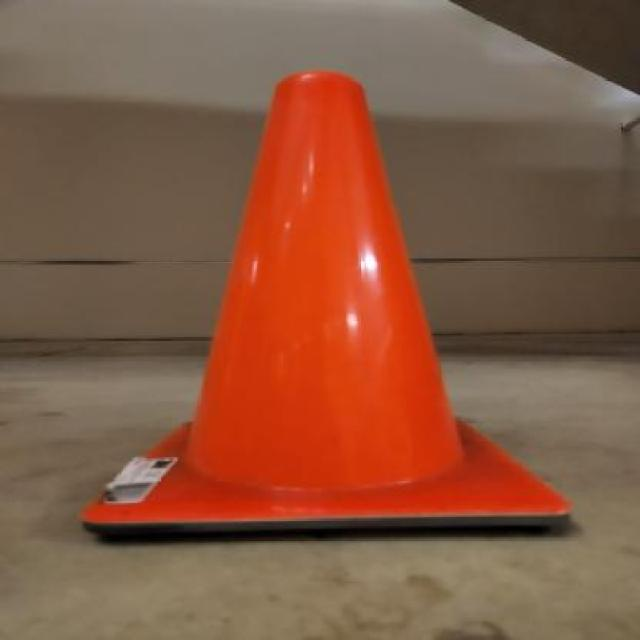traffic cone: (63, 57, 583, 551)
